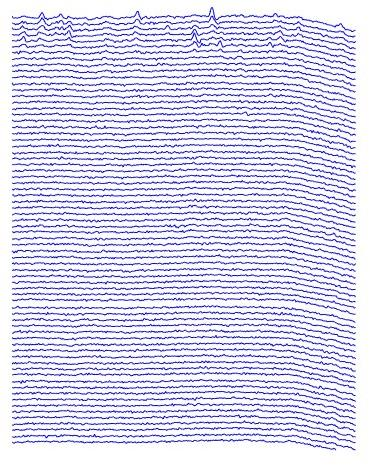defect: (267, 16, 307, 51), (37, 12, 77, 46), (191, 29, 202, 53), (208, 6, 218, 30), (132, 10, 139, 26)
